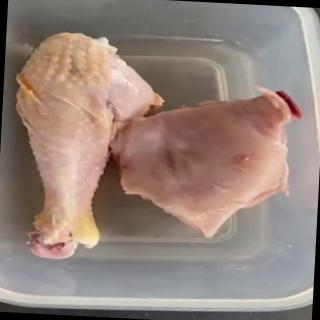Ayam: (7, 29, 170, 265), (103, 79, 305, 245)
